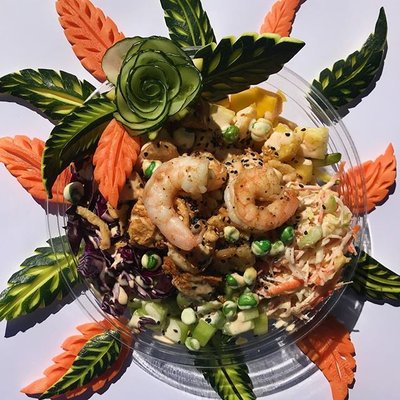sushi: (1, 0, 400, 398)
